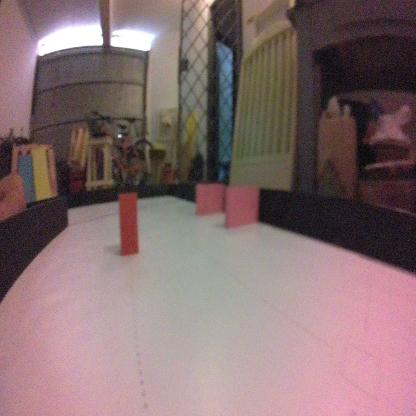magenta: (224, 184, 260, 228), (195, 181, 224, 215)
red: (116, 189, 139, 256)
